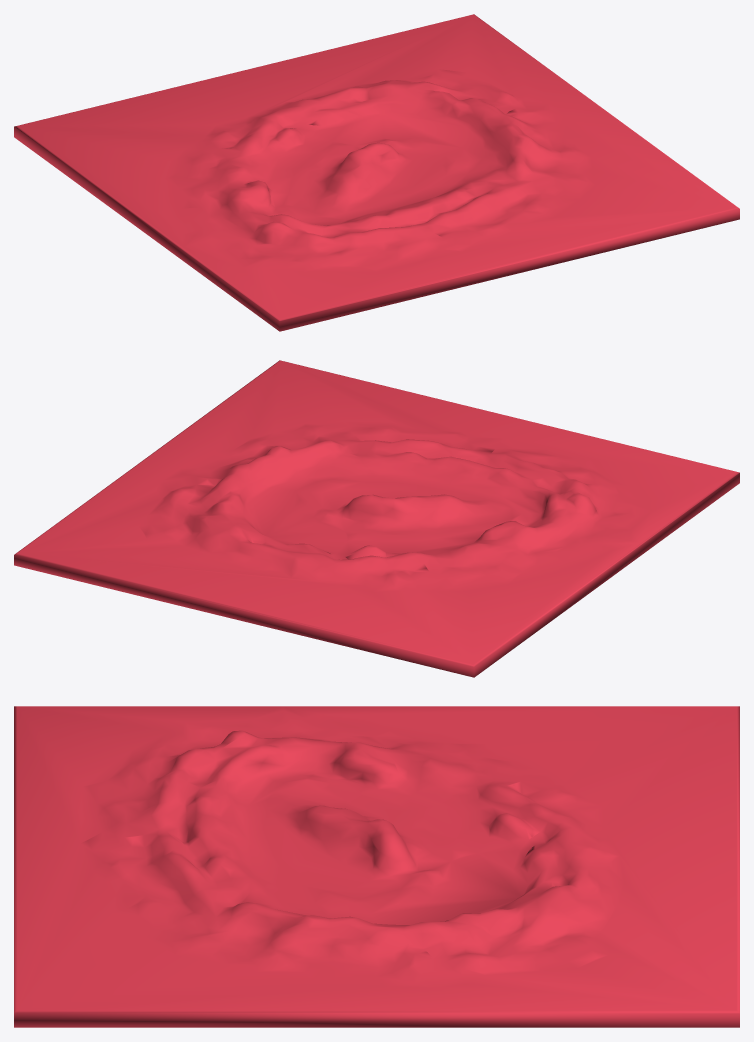
Rendered from island.glb.
The picture shows the model from 3 angles, top to bottom: view 1: azimuth 30°, elevation 25°; view 2: azimuth 150°, elevation 25°; view 3: azimuth 270°, elevation 25°; orthographic projection. The views are drawn at different scales.
Parts seen in each view (by area): view 1: Untitled Project; view 2: Untitled Project; view 3: Untitled Project.
Boxes of the visible parts, x1=… form: Untitled Project: x1=14, y1=14, x2=739, y2=331; Untitled Project: x1=14, y1=360, x2=739, y2=677; Untitled Project: x1=14, y1=706, x2=739, y2=1027.
Size of the model in its own units: 30.4 by 2.03 by 30.4.
